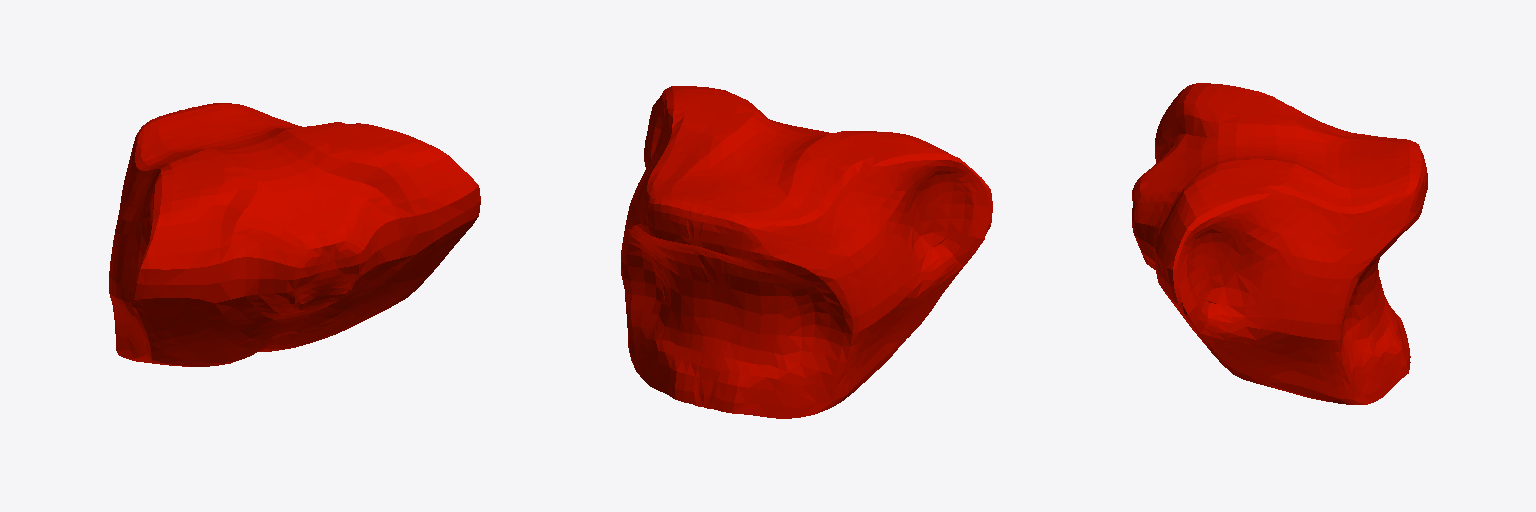
Rendered from Chest.obj.
3 renders of one model, left to right at view 1: azimuth 30°, elevation 25°; view 2: azimuth 150°, elevation 25°; view 3: azimuth 270°, elevation 25°, orthographic.
Parts seen in each view (by area): view 1: Chest_Alpha_Surface.010; view 2: Chest_Alpha_Surface.010; view 3: Chest_Alpha_Surface.010.
Boxes of the visible parts, x1=… form: Chest_Alpha_Surface.010: x1=109, y1=103, x2=480, y2=366; Chest_Alpha_Surface.010: x1=621, y1=86, x2=992, y2=418; Chest_Alpha_Surface.010: x1=1132, y1=83, x2=1427, y2=404.
Bounding box in the file's own units: 0.4453 × 0.2829 × 0.3313.